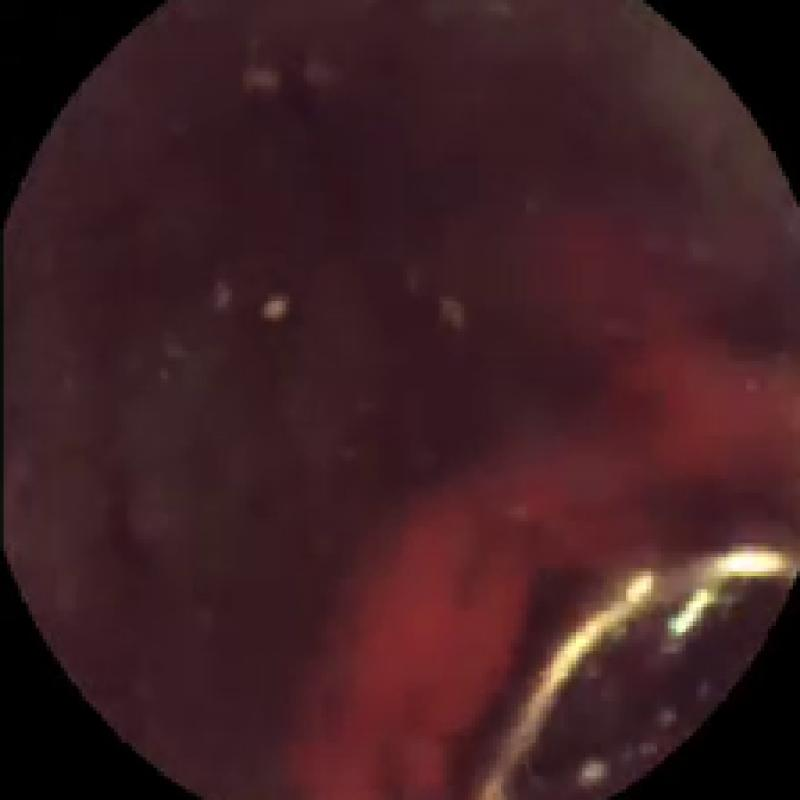bleeding: (285, 218, 800, 800)
